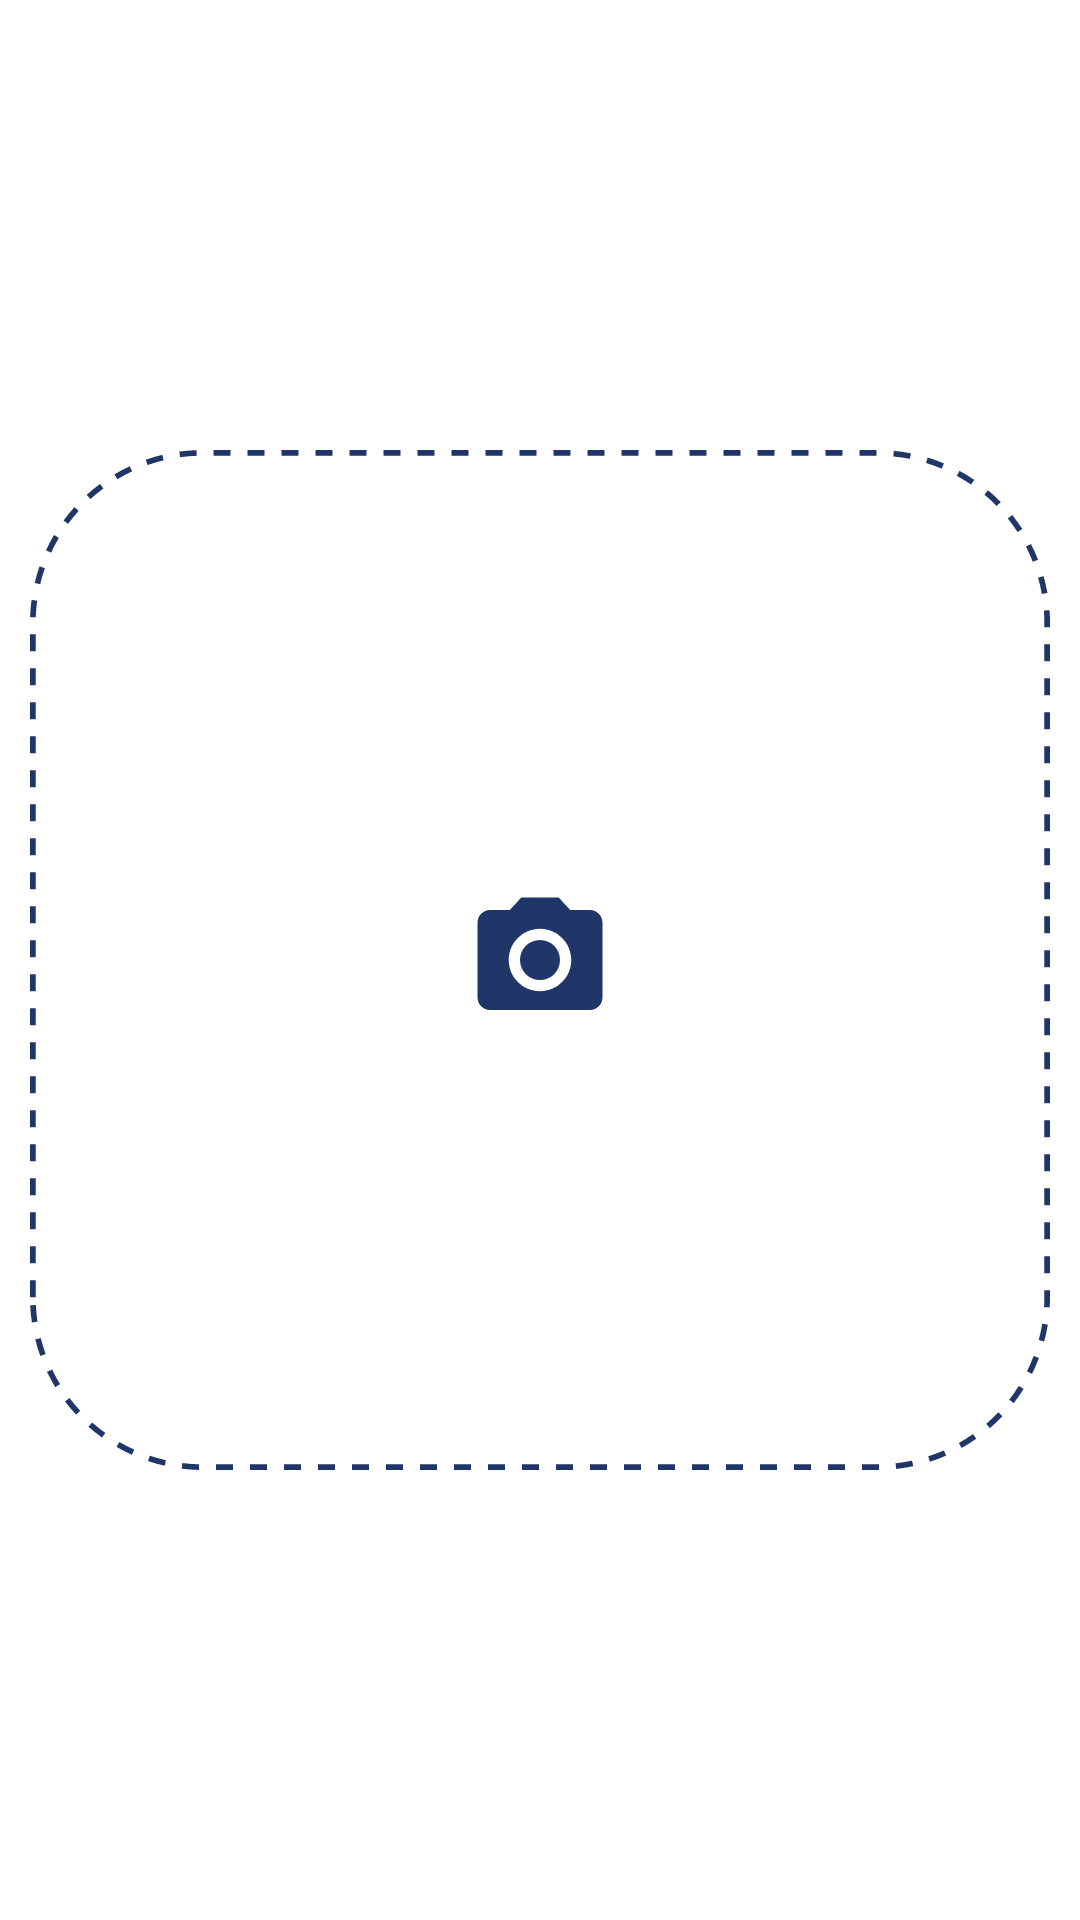

Icon click points for this 1080 x 1920 phone screenshot, format (x=x, y=y):
camera: (x=540, y=953)
